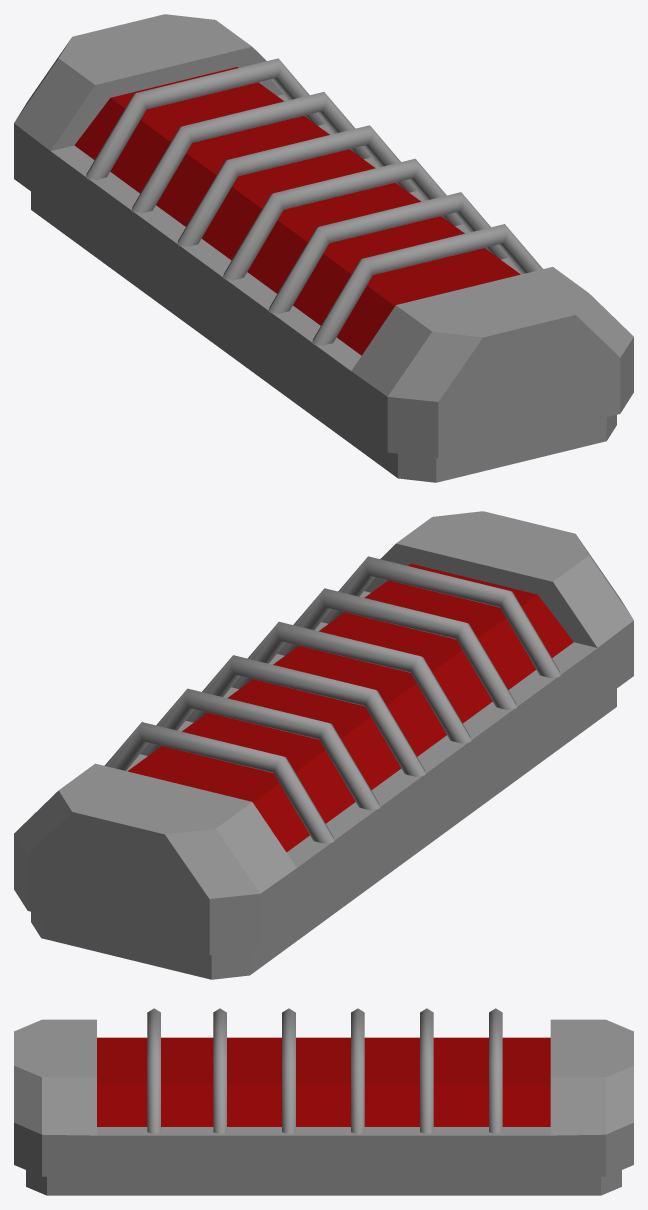
Rendered from M_prop_Lamp_standard_cage.FBX.
The picture shows the model from 3 angles, top to bottom: view 1: azimuth 30°, elevation 25°; view 2: azimuth 150°, elevation 25°; view 3: azimuth 270°, elevation 25°; orthographic projection. The views are drawn at different scales.
Visible parts, largest first — view 1: M_prop_Lamp_standard_cage; view 2: M_prop_Lamp_standard_cage; view 3: M_prop_Lamp_standard_cage.
Part boxes in pixels (left/top/right/bottom): M_prop_Lamp_standard_cage: left=14, top=14, right=633, bottom=482; M_prop_Lamp_standard_cage: left=14, top=511, right=633, bottom=979; M_prop_Lamp_standard_cage: left=14, top=1008, right=633, bottom=1195.
Size of the model in its own units: 67.88 by 195 by 41.72.
